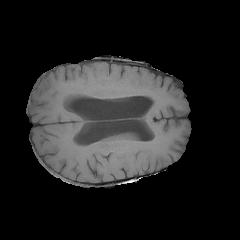glioma: (61, 79, 155, 99)
